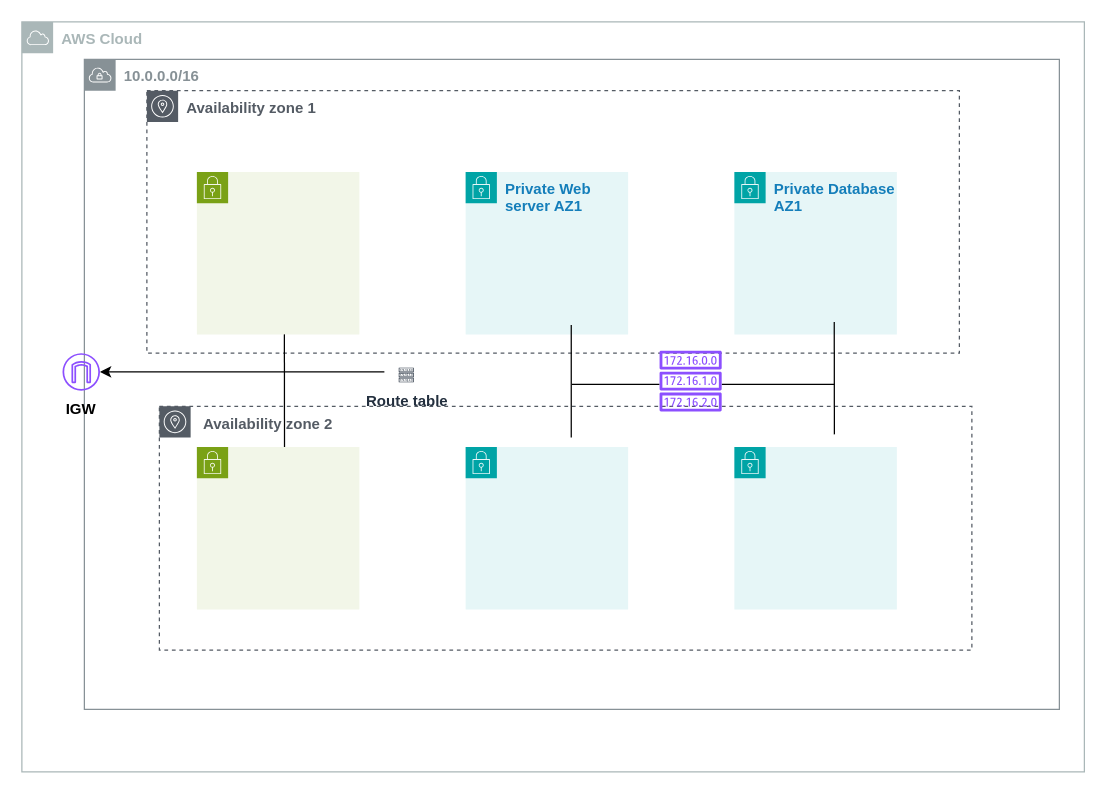
Some shapes in this 1106 by 794 pixel diagram are drawn without their labels. The centre of each missing label's shape, as x and y in pixels:
"Private Database AZ2" goes at (815,527).
"Private Web server AZ2" goes at (546,527).
"Public AZ1" goes at (277,252).
"Public AZ2" goes at (277,527).
